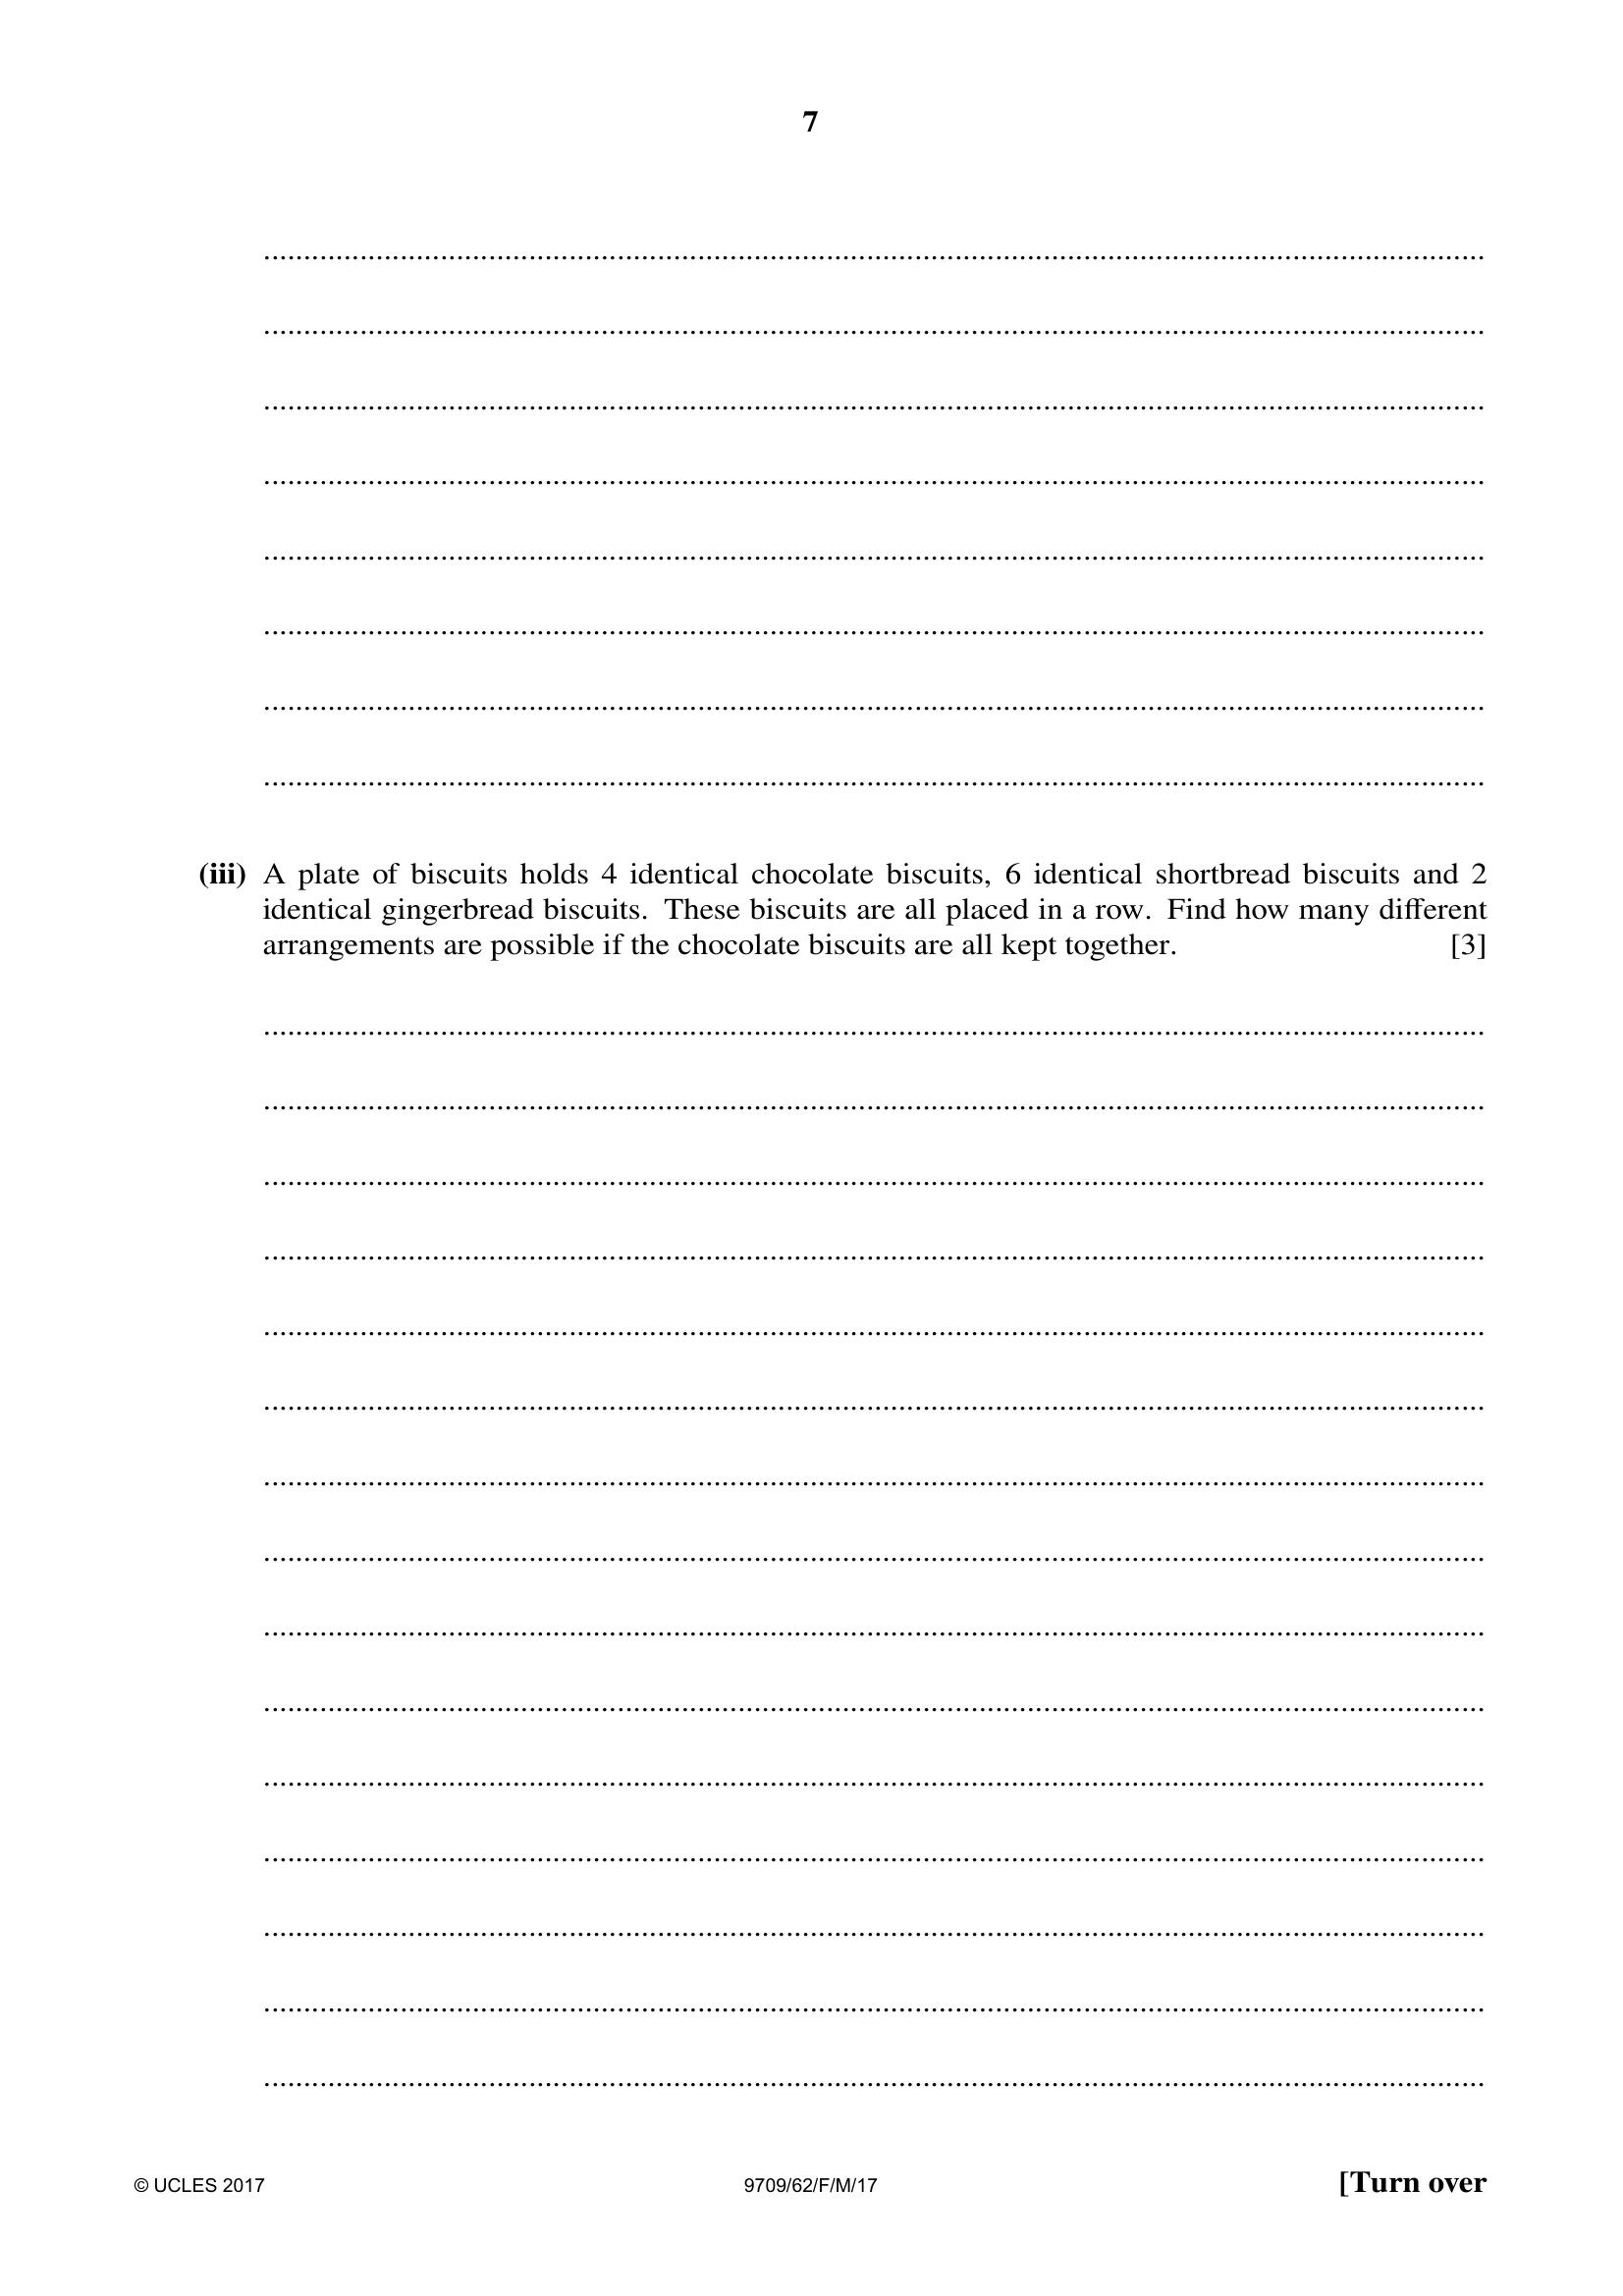continued question: (2, 167, 1623, 2149)
